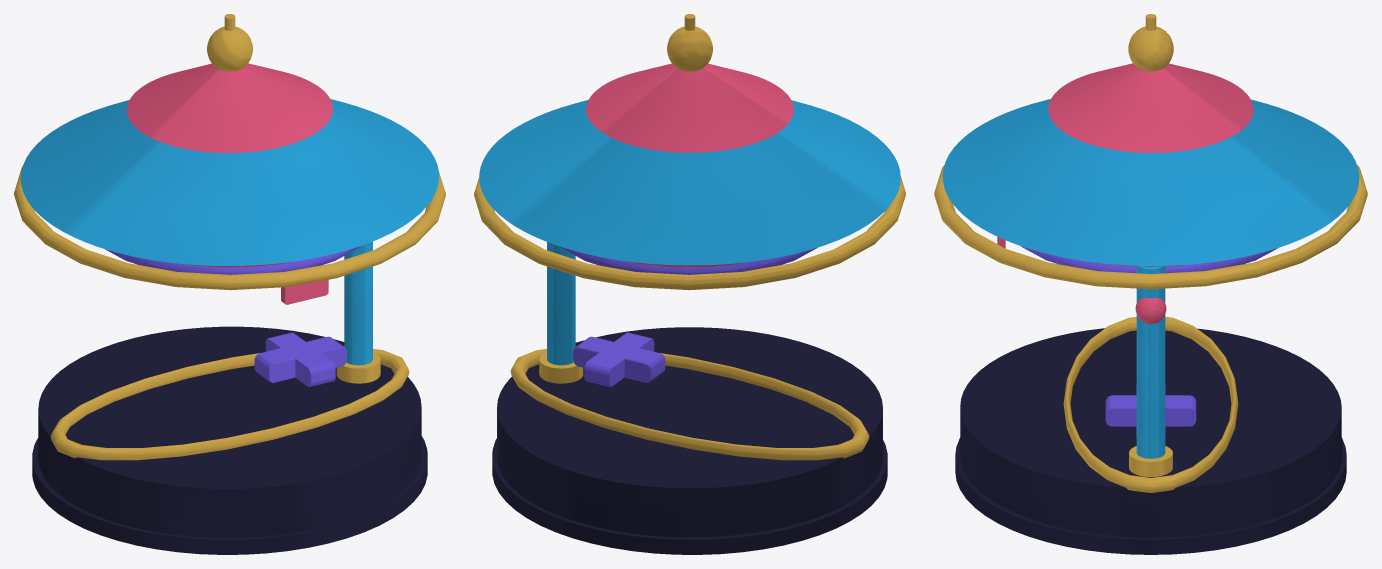
Rendered from 1252_三国演义1_凤仪亭.glb.
3 views of the same model, side by side, from view 1: azimuth 30°, elevation 25°; view 2: azimuth 150°, elevation 25°; view 3: azimuth 270°, elevation 25° (orthographic).
Parts seen in each view (by area): view 1: card_1252; view 2: card_1252; view 3: card_1252.
Boxes of the visible parts, <box> form: card_1252: <box>14,14,445,554</box>; card_1252: <box>474,14,905,554</box>; card_1252: <box>934,14,1367,554</box>.
Bounding box in the file's own units: 0.8579 × 1 × 0.8639.
